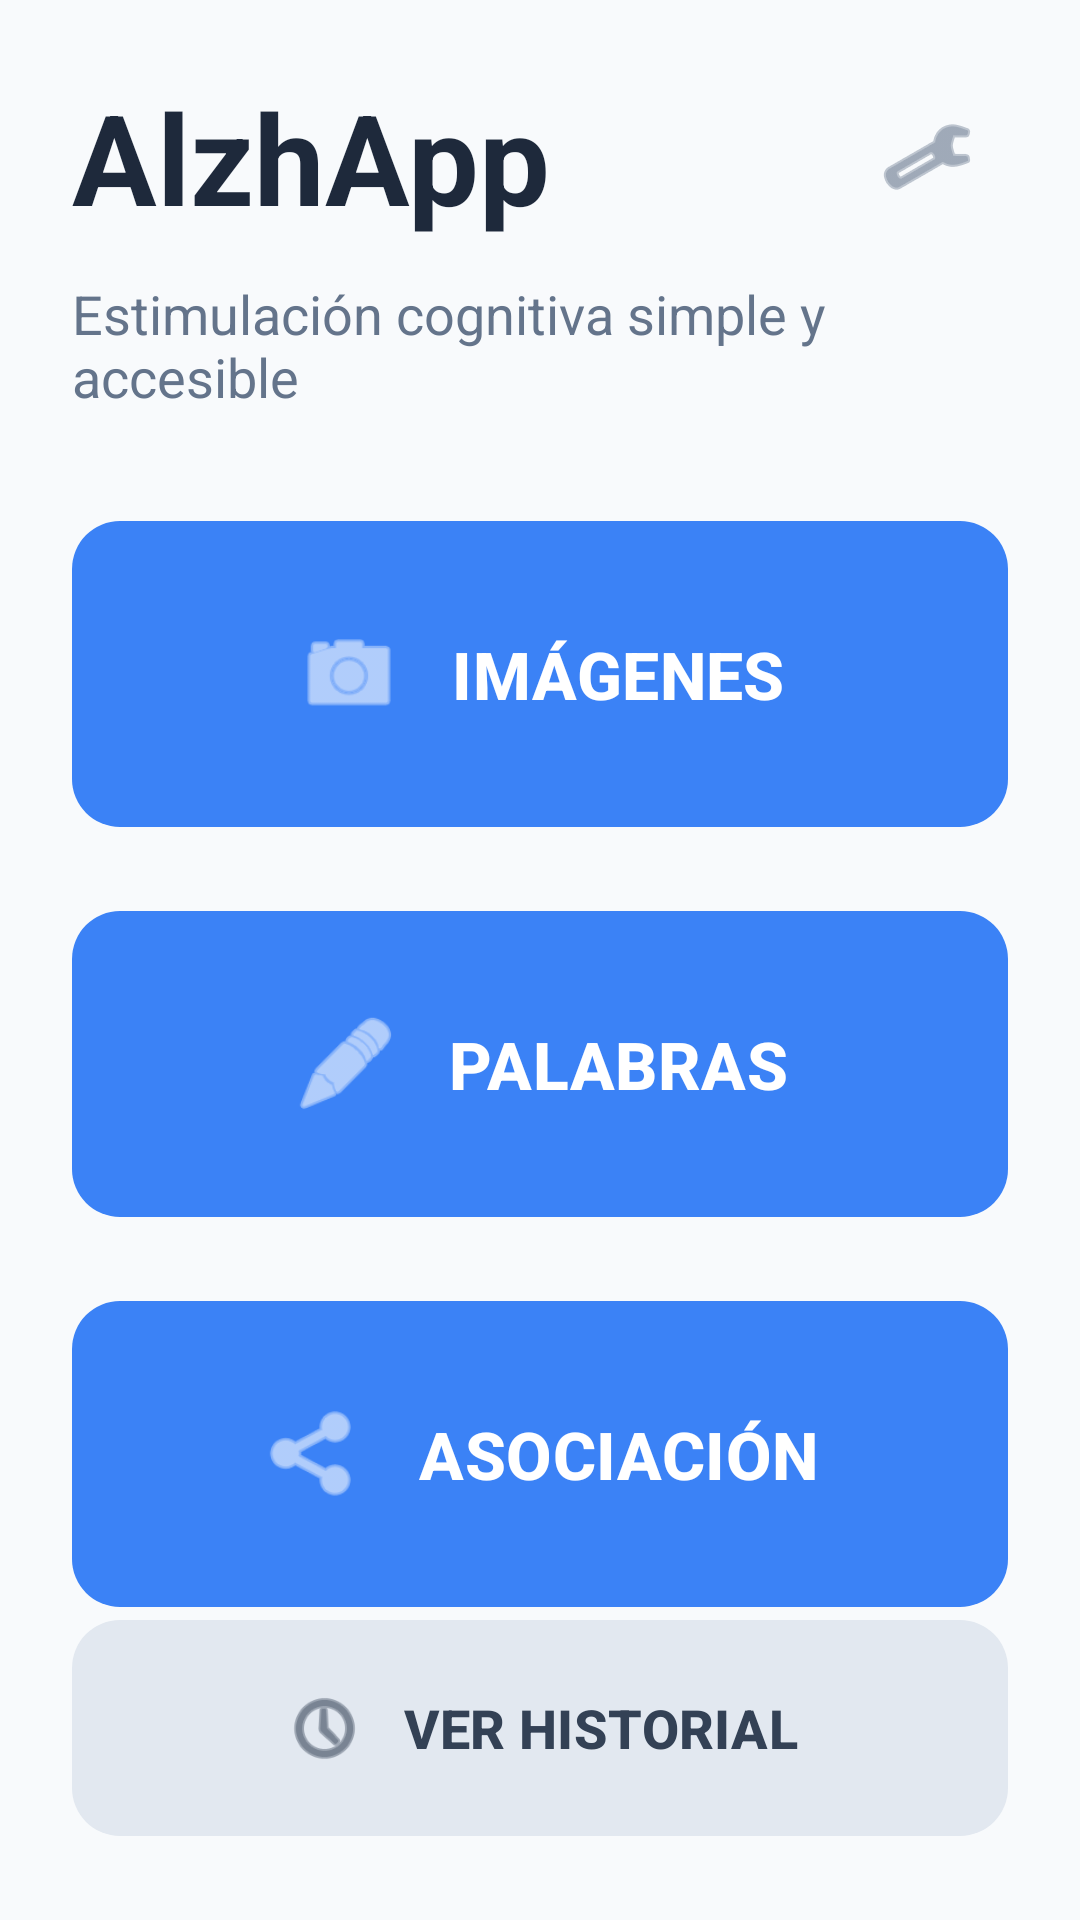

Icon click points for this 1080 × 1920 phone screenshot, format (x=x, y=y):
Abrir ajustes: (x=927, y=157)
